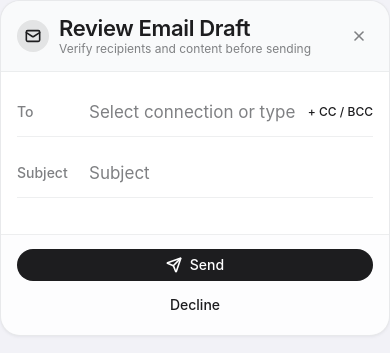
it: EmailDraftCard › fills the recipient from a connected person without bypassing review
Step 1. Focus the field with test id "one-email-draft-to" → (194, 112), box [89, 94, 300, 130]
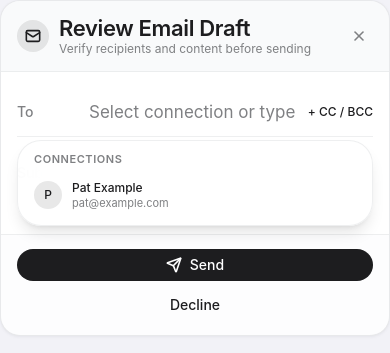
Step 2. Click the button "P Pat Example pat@example.com" → (107, 187), box [24, 172, 366, 219]
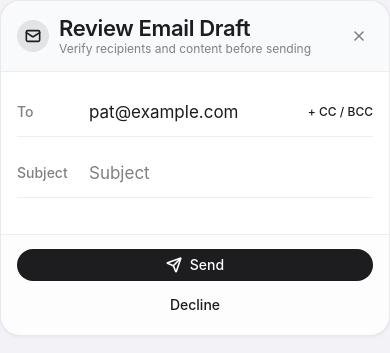
Expected: the field with test id "one-email-draft-to" holds "pat@example.com", [89, 94, 300, 130]
